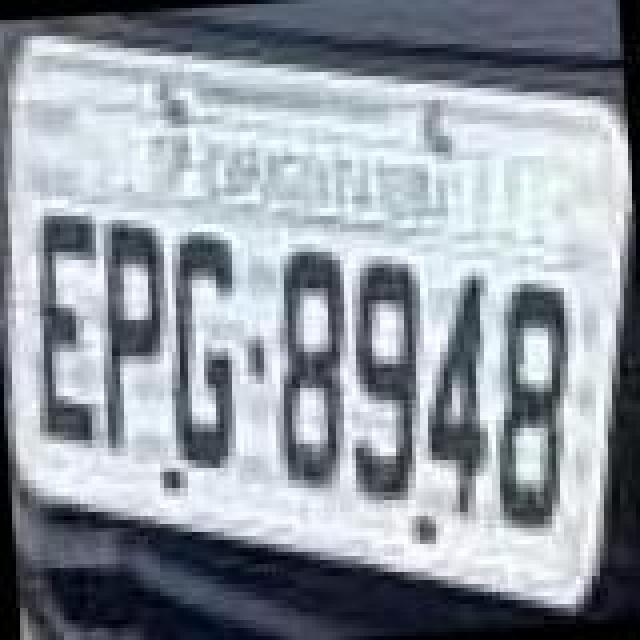4: (410, 260, 502, 524)
8: (484, 278, 588, 538), (262, 246, 362, 490)
9: (334, 254, 434, 506)
E: (24, 206, 120, 450)
G: (162, 226, 254, 470)
P: (90, 214, 182, 458)
